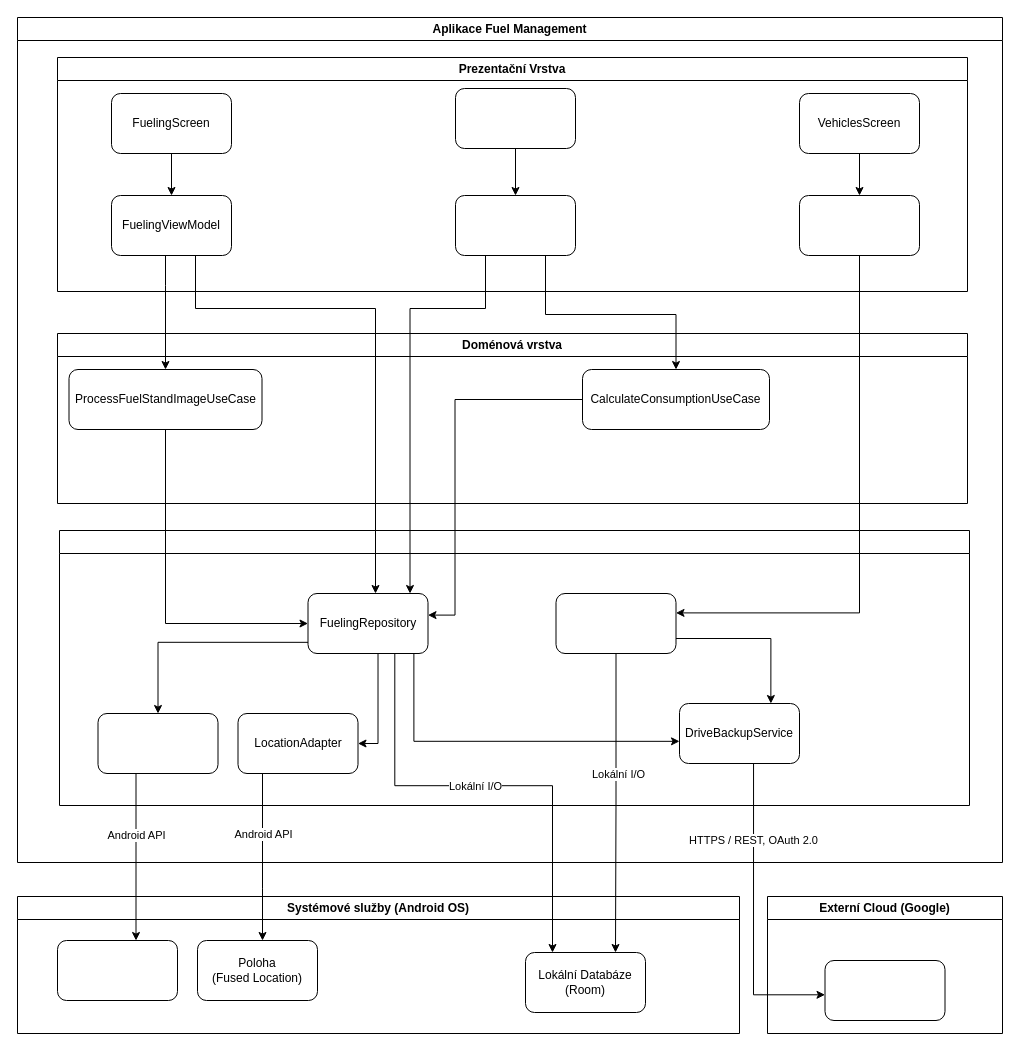
Some shapes in this 1020 by 1051 pixel diagram are drawn without their labels. The shapes that lost their labels are listed below. From the top down, each one's box as (x1, y1, x2, y2) in pixels, then its label:
(454, 88, 576, 148): HistoryScreen
(454, 194, 576, 256): HistoryViewModel
(798, 194, 920, 256): VehicleViewModel
(555, 592, 676, 654): VehicleRepository
(58, 530, 970, 806): Datová vrstva
(97, 712, 218, 774): CameraAdapter
(56, 940, 178, 1000): Kamera a OCR (CameraX + ML Kit)
(824, 960, 945, 1020): GoogleDriveAPI
